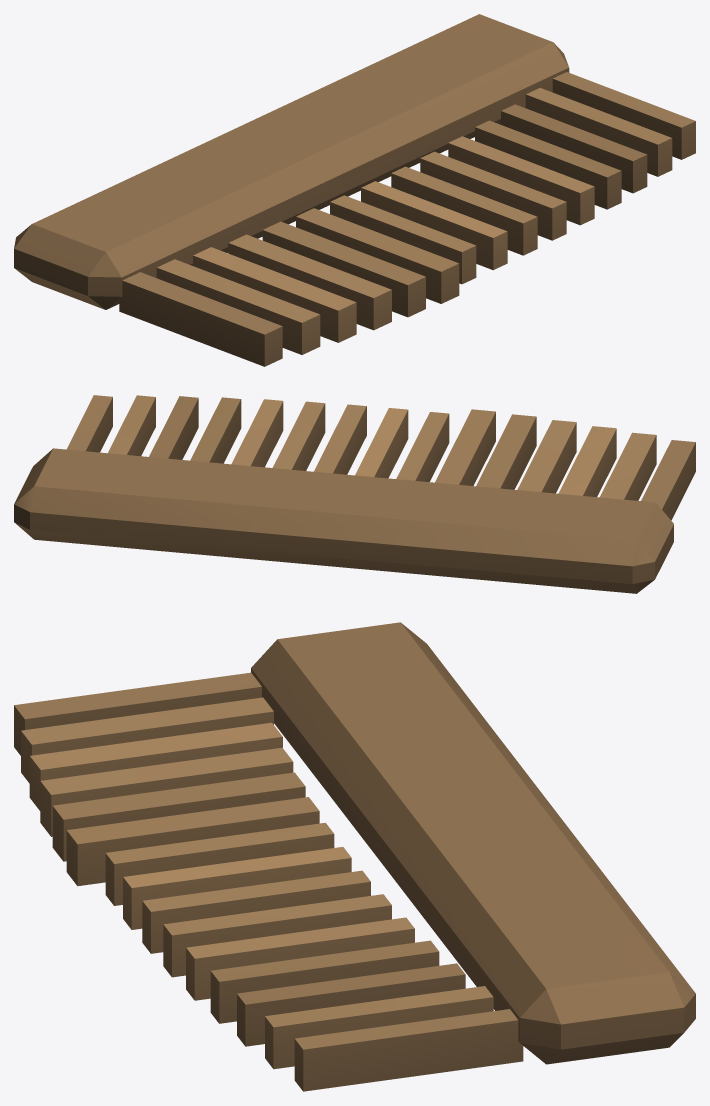
Rendered from ph_item_comb.glb.
The picture shows the model from 3 angles, top to bottom: view 1: azimuth 30°, elevation 25°; view 2: azimuth 150°, elevation 25°; view 3: azimuth 270°, elevation 25°; orthographic projection. The views are drawn at different scales.
Parts seen in each view (by area): view 1: ph_item_comb; view 2: ph_item_comb; view 3: ph_item_comb.
Boxes of the visible parts, x1,y1,x2,y2 form: ph_item_comb: (14, 14, 695, 366); ph_item_comb: (14, 395, 695, 593); ph_item_comb: (14, 622, 695, 1091).
Bounding box in the file's own units: 0.2096 × 0.018 × 0.1473.
